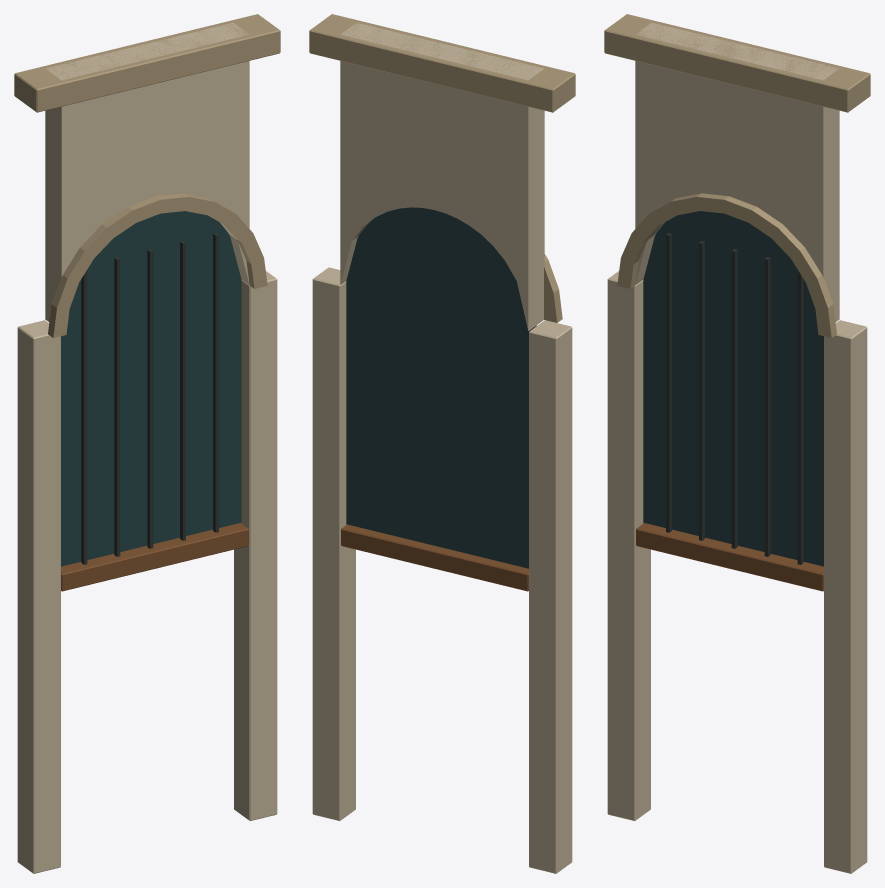
The model's file is lib_entrance.glb.
3 renders of one model, left to right at view 1: azimuth 30°, elevation 25°; view 2: azimuth 150°, elevation 25°; view 3: azimuth 330°, elevation 25°, orthographic.
Visible parts, largest first — view 1: entrance; view 2: entrance; view 3: entrance.
Part boxes in pixels (box(x1,y1,x2,y2)): entrance: box(14, 14, 280, 873); entrance: box(309, 14, 575, 873); entrance: box(604, 14, 870, 873).
Bounding box in the file's own units: 2.6 × 8 × 0.45.
